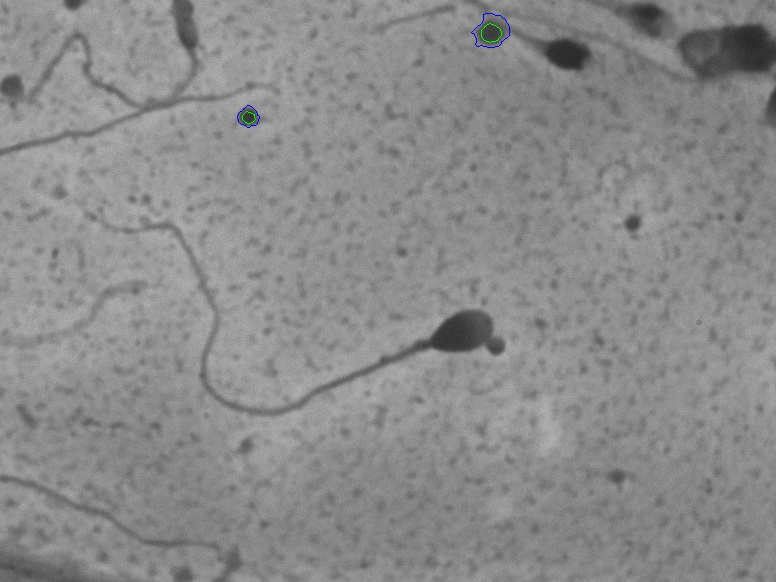Normal: (80, 196, 503, 431)
